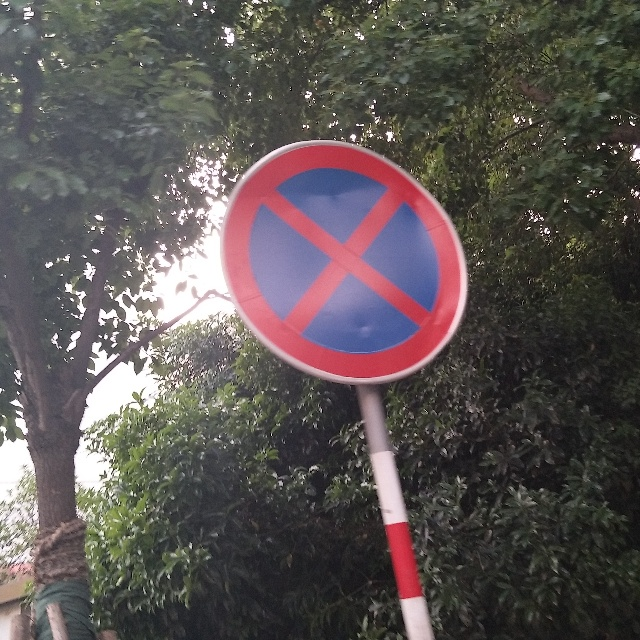stop: (242, 157, 452, 365)
